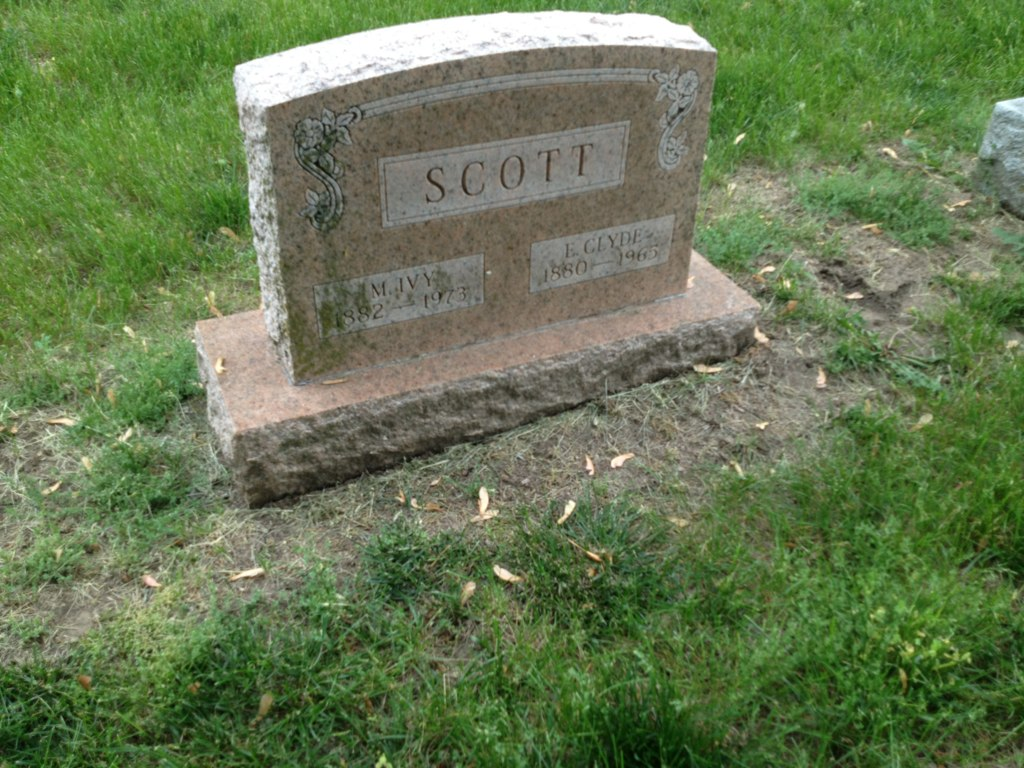upright: (190, 10, 761, 513)
